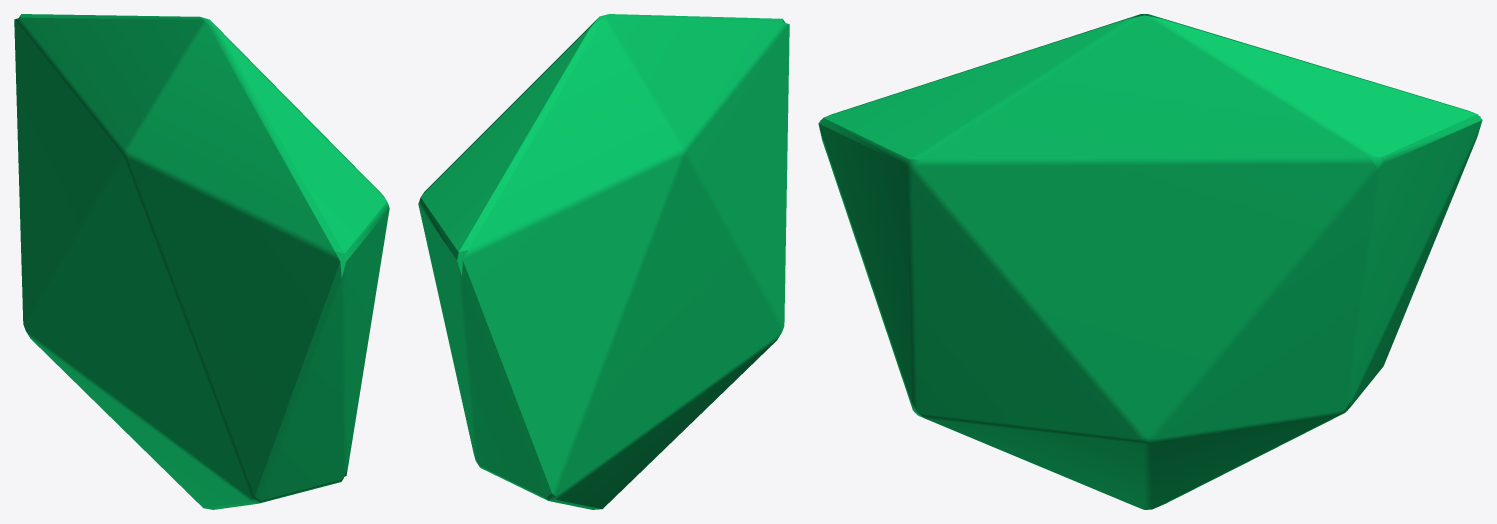
File: EmeraldNO.fbx
3 views of the same model, side by side, from view 1: azimuth 30°, elevation 25°; view 2: azimuth 150°, elevation 25°; view 3: azimuth 270°, elevation 25° (orthographic).
Visible parts, largest first — view 1: pPlatonic3; view 2: pPlatonic3; view 3: pPlatonic3.
Part boxes in pixels (x1,y1,x2,y2): pPlatonic3: (14,14,389,509); pPlatonic3: (418,14,789,509); pPlatonic3: (818,14,1482,509).
Bounding box in the file's own units: 0.5721 × 1.61 × 1.95.
